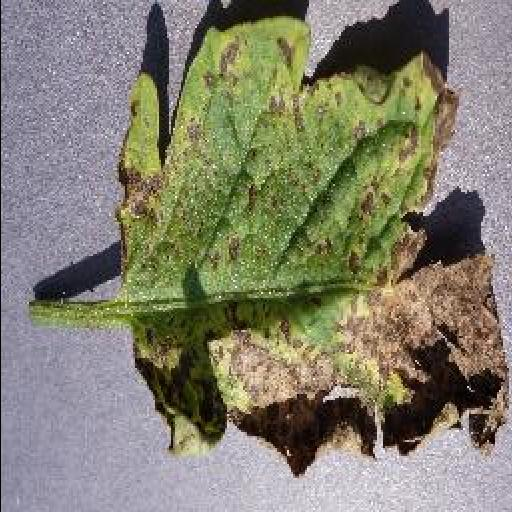disease_tomato: (118, 16, 508, 482)
